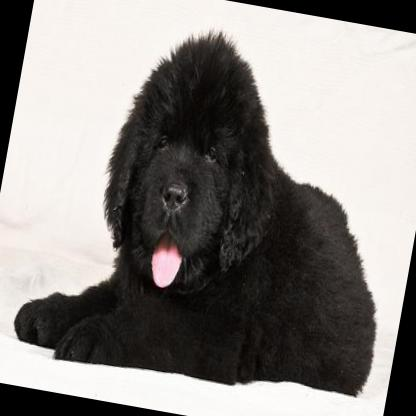Newfoundland: (8, 5, 416, 413)
